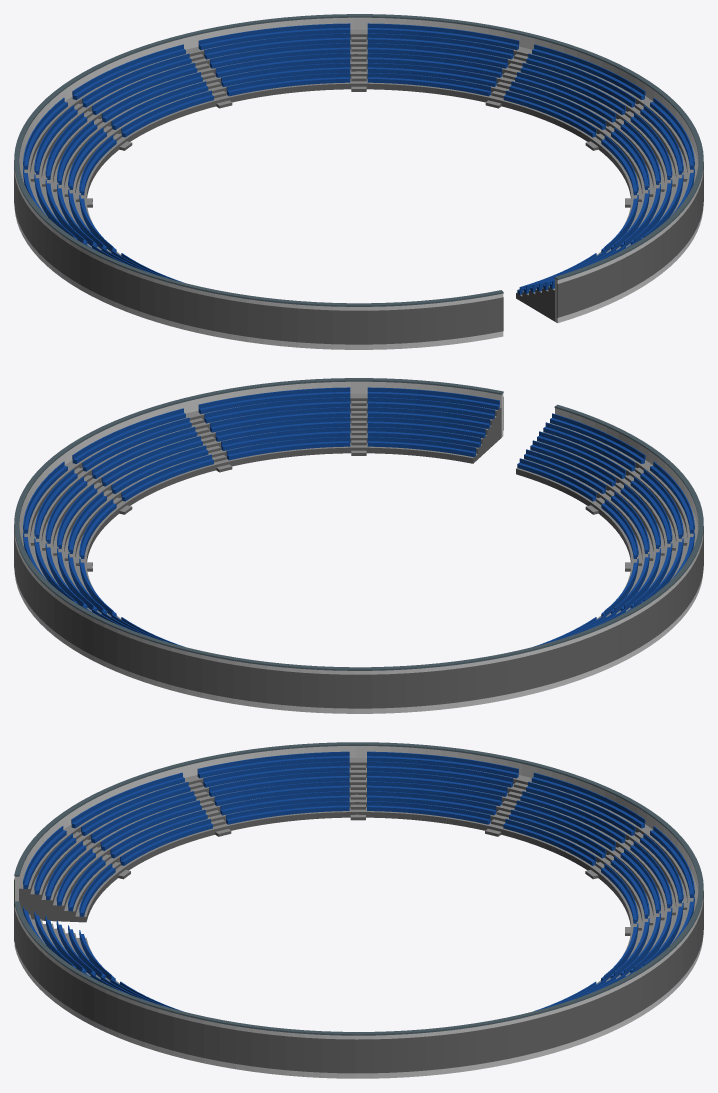
Rendered from PS_Arena_Stands.glb.
3 renders of one model, top to bottom at view 1: azimuth 30°, elevation 25°; view 2: azimuth 150°, elevation 25°; view 3: azimuth 270°, elevation 25°, orthographic.
Visible parts, largest first — view 1: Stands; view 2: Stands; view 3: Stands.
Boxes of the visible parts, x1,y1,x2,y2 form: Stands: [14, 14, 703, 349]; Stands: [14, 378, 703, 713]; Stands: [14, 742, 703, 1078].
Size of what is drawn, in the model's own units: 270 by 19.24 by 269.
Materials: 3 (3 with a texture image).
